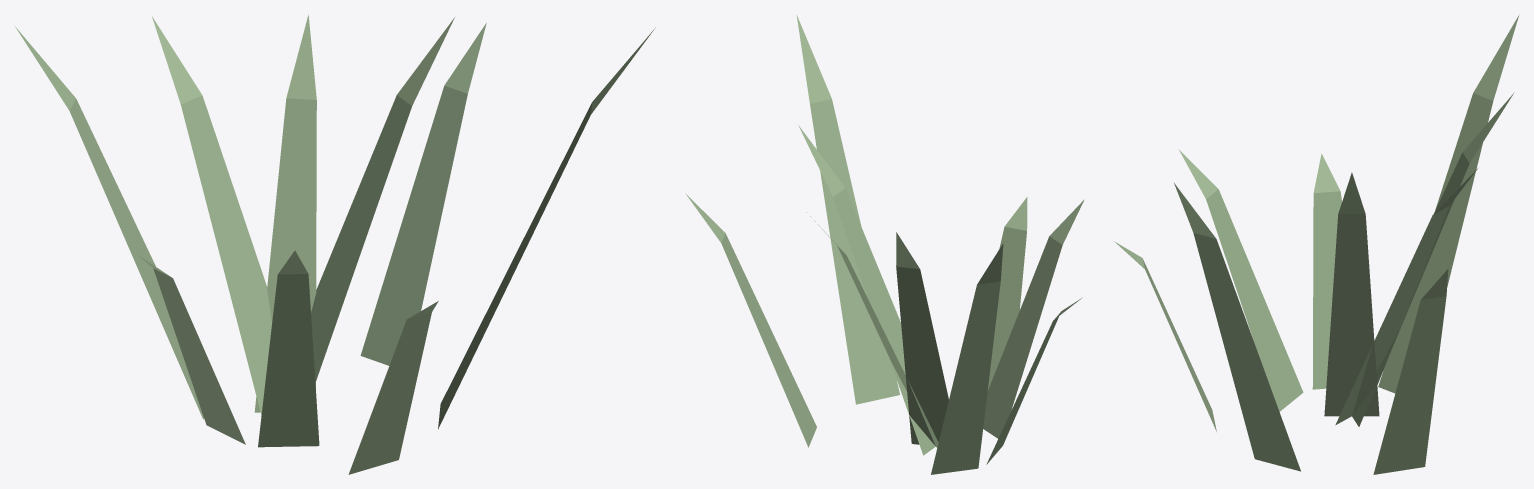
The model's file is SM_Grass_0_UV11249.fbx.
3 renders of one model, left to right at view 1: azimuth 30°, elevation 25°; view 2: azimuth 150°, elevation 25°; view 3: azimuth 270°, elevation 25°, orthographic. The views are drawn at different scales.
Visible parts, largest first — view 1: SM_Grass_0_UV11249; view 2: SM_Grass_0_UV11249; view 3: SM_Grass_0_UV11249.
Boxes of the visible parts, bbox=[...] form: SM_Grass_0_UV11249: bbox=[15, 14, 655, 474]; SM_Grass_0_UV11249: bbox=[685, 15, 1084, 474]; SM_Grass_0_UV11249: bbox=[1114, 14, 1519, 474].
Size of the model in its own units: 135 by 118 by 113.
